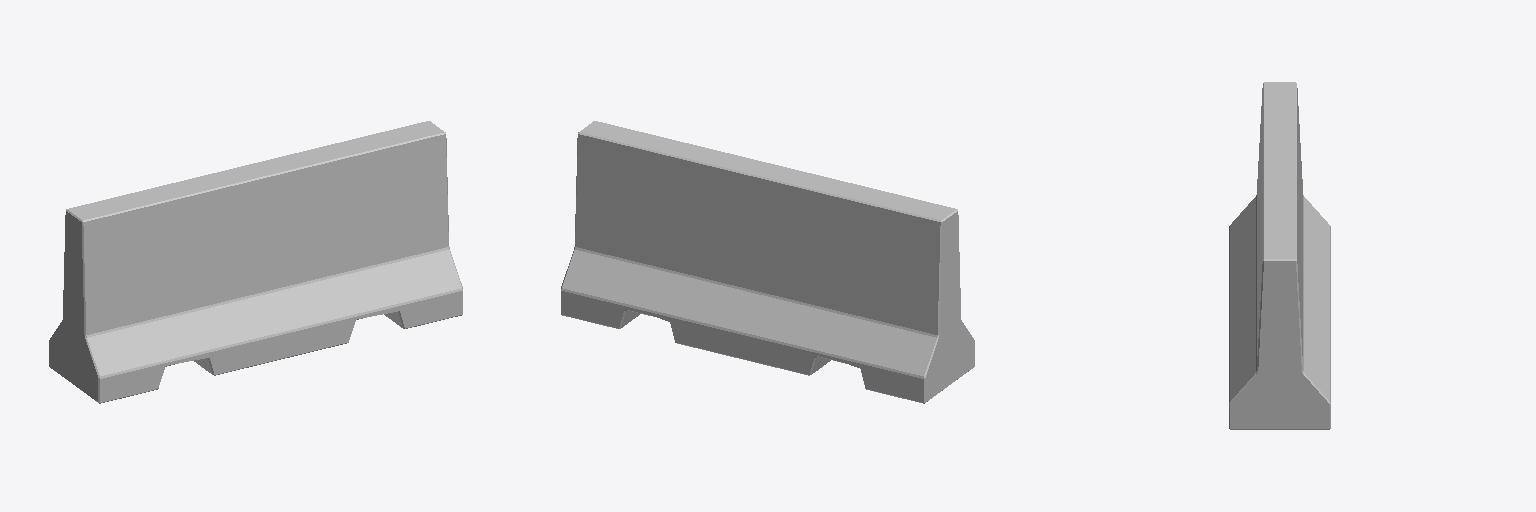
Rendered from Basic Barrier.obj.
3 views of the same model, side by side, from view 1: azimuth 30°, elevation 25°; view 2: azimuth 150°, elevation 25°; view 3: azimuth 270°, elevation 25° (orthographic).
Parts seen in each view (by area): view 1: Basic_Barrier; view 2: Basic_Barrier; view 3: Basic_Barrier.
Boxes of the visible parts, <box> form: Basic_Barrier: <box>49,121,462,403</box>; Basic_Barrier: <box>561,121,974,403</box>; Basic_Barrier: <box>1229,82,1330,429</box>.
Size of the model in its own units: 6.75 by 3.02 by 1.64.